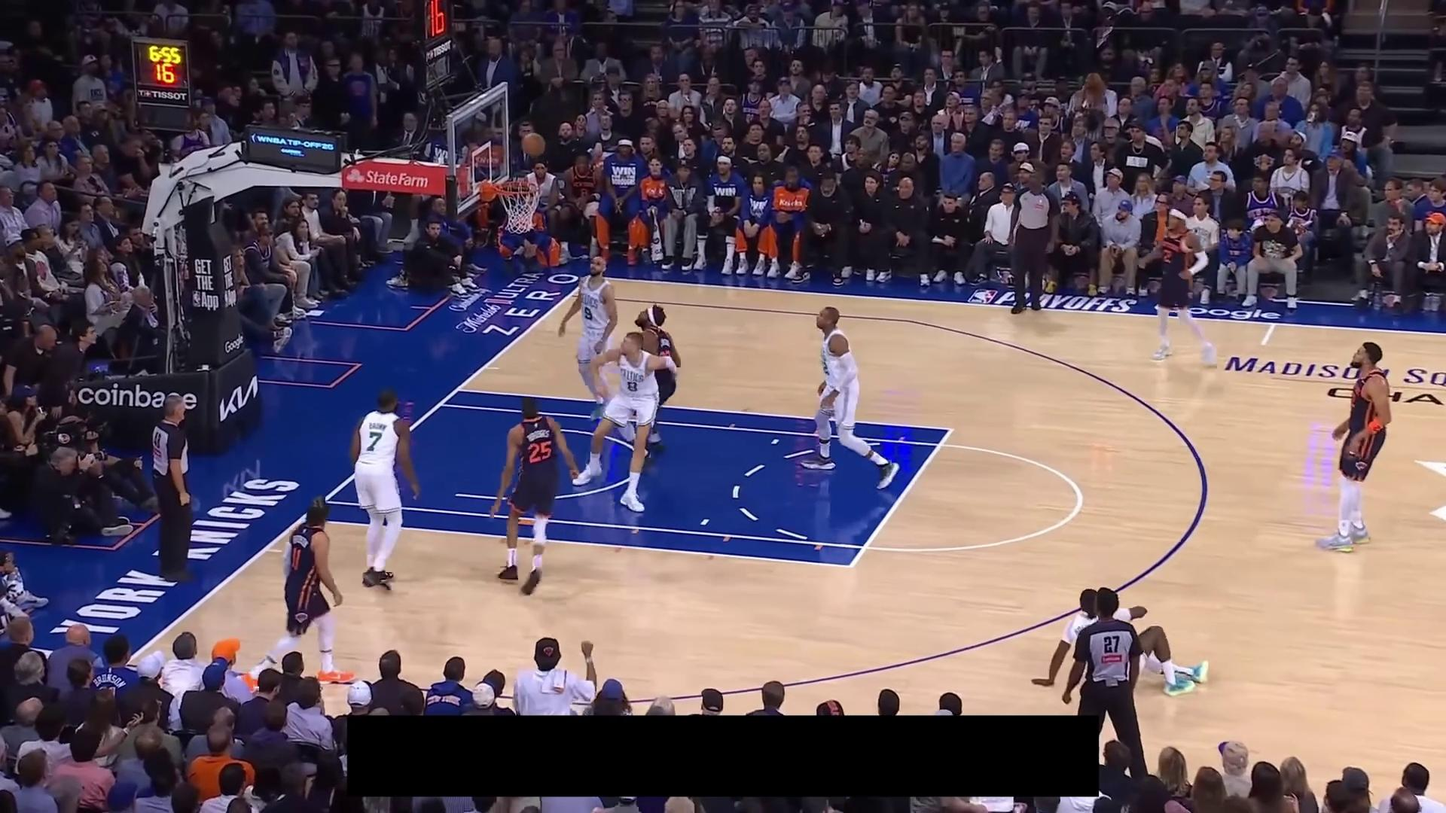ball: (521, 132, 546, 157)
number: (528, 440, 553, 464), (365, 431, 383, 452), (290, 547, 302, 571), (581, 305, 594, 321), (625, 379, 639, 393), (1162, 248, 1173, 263)
player: (243, 495, 357, 691), (796, 304, 902, 492), (572, 331, 680, 514), (1030, 586, 1209, 696), (489, 396, 579, 596), (1314, 340, 1393, 554), (348, 385, 423, 588), (1136, 206, 1217, 368), (615, 303, 681, 467), (558, 256, 618, 421)
referee: (1062, 587, 1150, 779), (150, 394, 198, 581), (1004, 164, 1060, 315)
rim: (494, 179, 538, 196)
